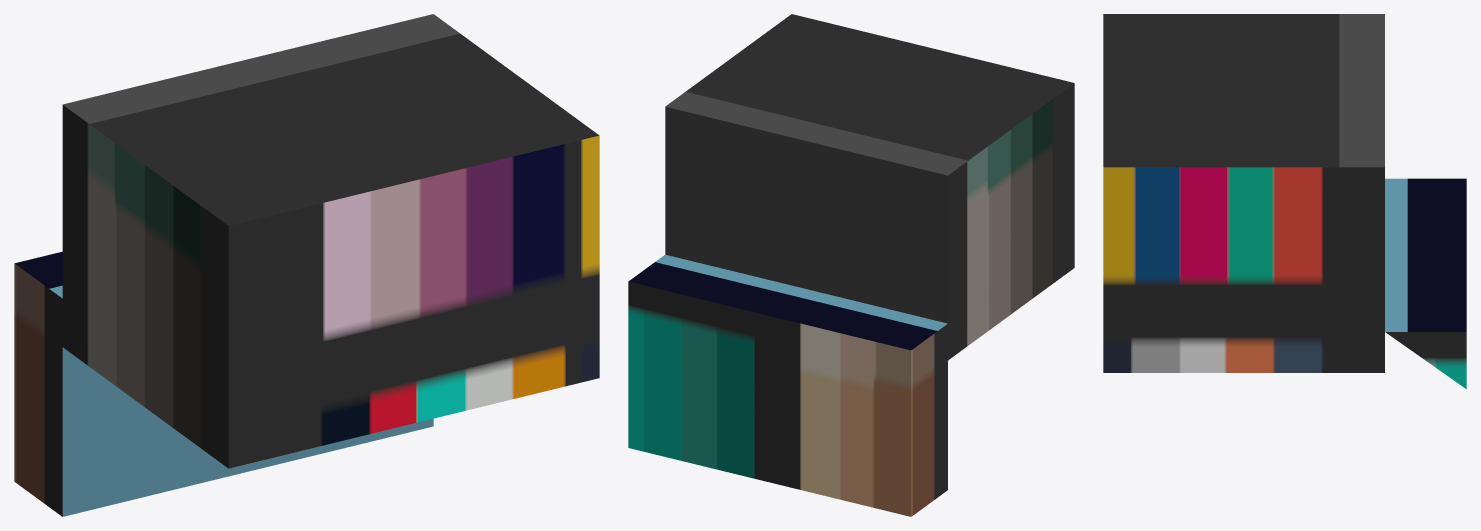
Rendered from tile_3_1_6.gltf.
3 renders of one model, left to right at view 1: azimuth 30°, elevation 25°; view 2: azimuth 150°, elevation 25°; view 3: azimuth 270°, elevation 25°, orthographic. The views are drawn at different scales.
Visible parts, largest first — view 1: arena.floor.main.017, arena.floor.corners.030; view 2: arena.floor.main.017, arena.floor.corners.030; view 3: arena.floor.main.017, arena.floor.corners.030.
Boxes of the visible parts, <box> form: arena.floor.main.017: <box>62,14,599,468</box>; arena.floor.corners.030: <box>14,251,433,516</box>; arena.floor.main.017: <box>665,14,1074,360</box>; arena.floor.corners.030: <box>628,254,947,516</box>; arena.floor.main.017: <box>1103,14,1384,372</box>; arena.floor.corners.030: <box>1385,178,1466,388</box>.
Bounding box in the file's own units: 8 × 8.5 × 8.
Materials: 1 (1 with a texture image).
